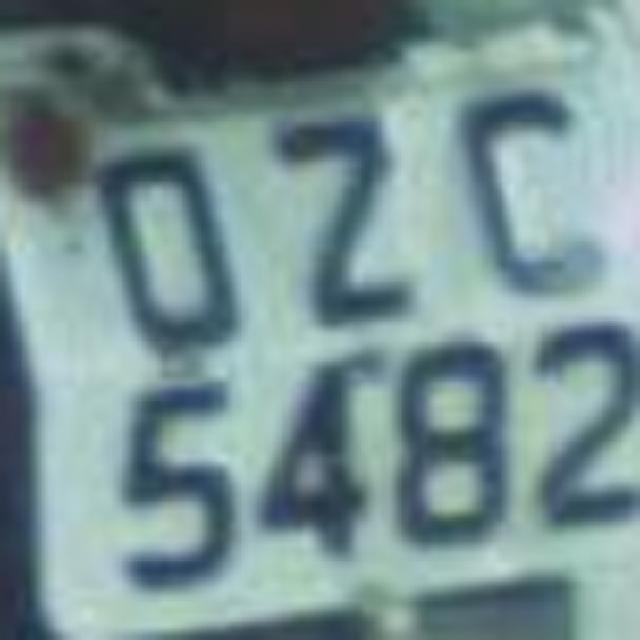2: (1, 1, 2, 1)
4: (244, 331, 391, 584)
5: (85, 376, 280, 592)
8: (360, 304, 548, 556)
O: (76, 120, 256, 365)
Z: (252, 104, 436, 324)
